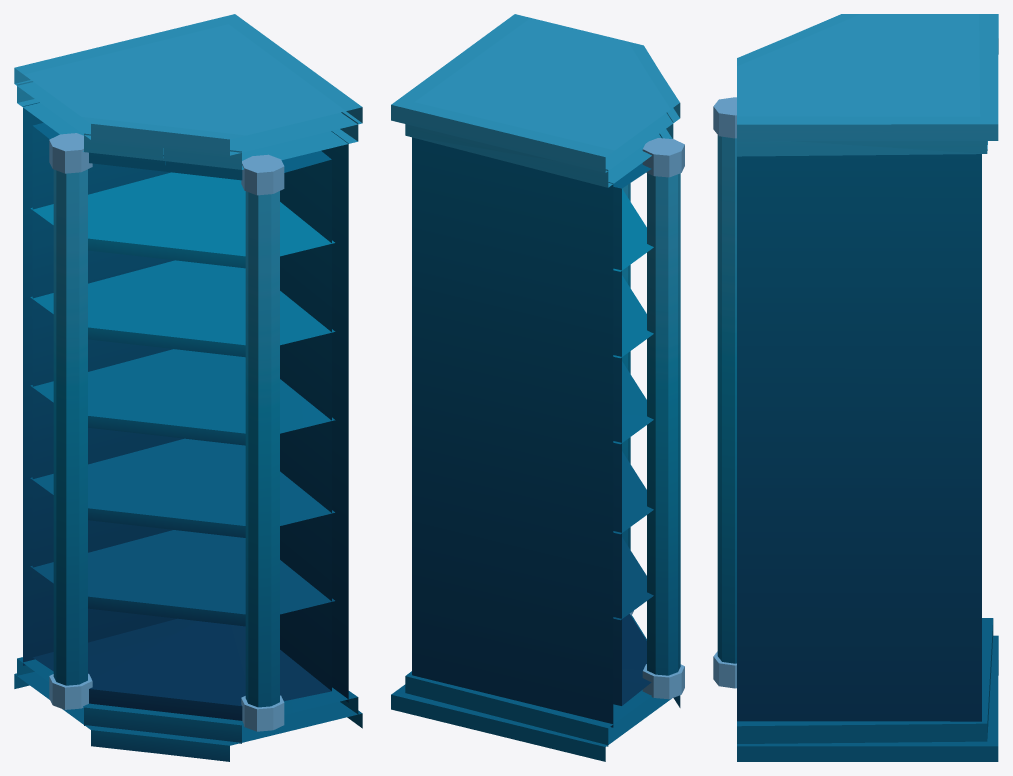
The model's file is Bookshelf 02 Corner.fbx.
3 renders of one model, left to right at view 1: azimuth 30°, elevation 25°; view 2: azimuth 150°, elevation 25°; view 3: azimuth 270°, elevation 25°, orthographic. The views are drawn at different scales.
Parts seen in each view (by area): view 1: Bookshelf 02 Corner.001; view 2: Bookshelf 02 Corner.001; view 3: Bookshelf 02 Corner.001.
Boxes of the visible parts, bbox=[...] form: Bookshelf 02 Corner.001: bbox=[14, 14, 362, 761]; Bookshelf 02 Corner.001: bbox=[391, 14, 684, 761]; Bookshelf 02 Corner.001: bbox=[713, 14, 998, 761].
Size of the model in its own units: 108 by 267 by 108.
